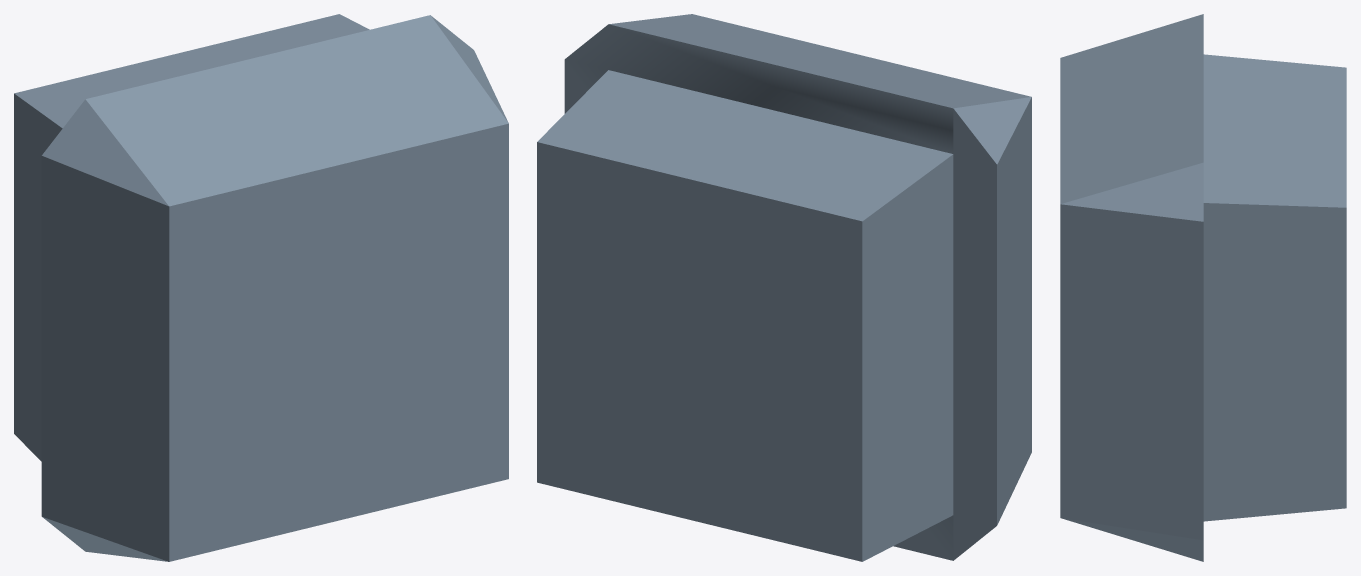
File: cap.obj
The picture shows the model from 3 angles, left to right: view 1: azimuth 30°, elevation 25°; view 2: azimuth 150°, elevation 25°; view 3: azimuth 270°, elevation 25°; orthographic projection. The views are drawn at different scales.
Parts seen in each view (by area): view 1: shakerPepper.004; view 2: shakerPepper.004; view 3: shakerPepper.004.
Part boxes in pixels (x1,y1,x2,y2): shakerPepper.004: (14, 14, 508, 561); shakerPepper.004: (537, 14, 1031, 561); shakerPepper.004: (1060, 14, 1346, 561).
Size of the model in its own units: 0.0323 by 0.0323 by 0.021.
